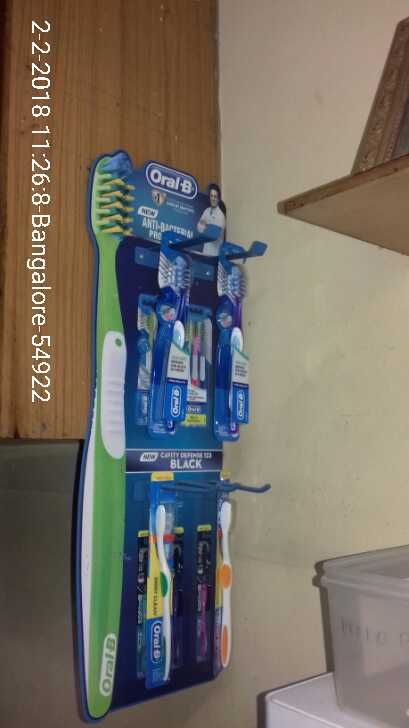oralb: (130, 247, 191, 433), (211, 263, 258, 442), (144, 495, 187, 690), (209, 492, 245, 680)
